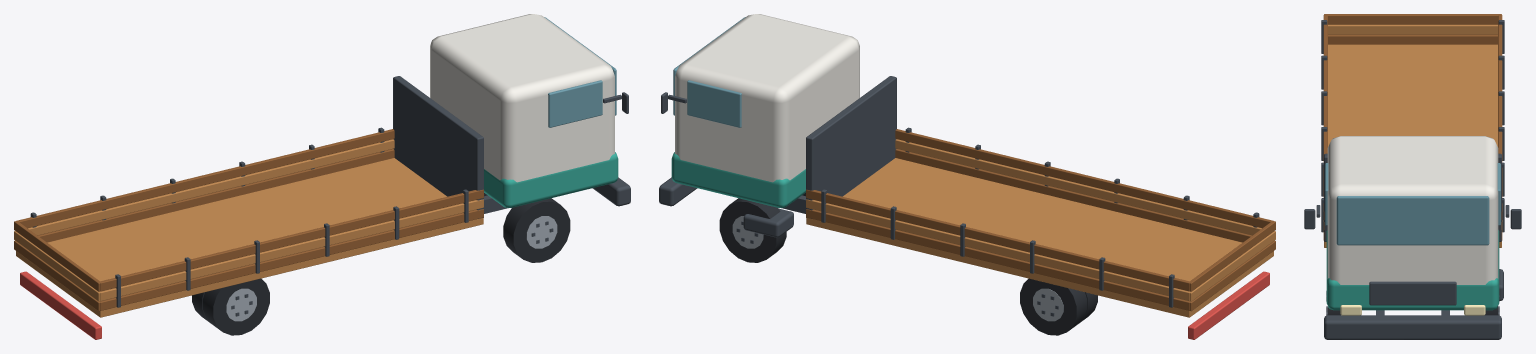
The model's file is caminhao_carroceria.glb.
The picture shows the model from 3 angles, left to right: view 1: azimuth 30°, elevation 25°; view 2: azimuth 150°, elevation 25°; view 3: azimuth 270°, elevation 25°; orthographic projection. The views are drawn at different scales.
Visible parts, largest first — view 1: tabua_lateral (×6), assoalho, corpo, protetor_cabine, pneu (×2), faixa_cabine, tabua_traseira (×3), vidro_porta, aro (×2), para_choque_traseiro, para_choque; view 2: tabua_lateral (×6), assoalho, corpo, protetor_cabine, pneu (×2), faixa_cabine, tabua_traseira (×3), vidro_porta, para_choque_traseiro, aro (×2), tanque, para_choque; view 3: corpo, assoalho, para_brisa, tabua_traseira (×3), para_choque, faixa_cabine, grade, tabua_lateral (×2), retrovisor (×2), farol (×2), vidro_porta (×2), protetor_cabine.
Part boxes in pixels (box(x1,y1,x2,y2)): tabua_lateral (×6): box(16, 129, 483, 310); assoalho: box(16, 158, 483, 317); corpo: box(430, 14, 614, 182); protetor_cabine: box(393, 76, 483, 218); pneu (×2): box(203, 198, 570, 335); faixa_cabine: box(484, 152, 618, 207); tabua_traseira (×3): box(14, 221, 100, 311); vidro_porta: box(548, 80, 602, 127); aro (×2): box(226, 216, 557, 321); para_choque_traseiro: box(20, 271, 101, 339); para_choque: box(592, 177, 630, 206); tabua_lateral (×6): box(806, 129, 1273, 310); assoalho: box(806, 158, 1273, 317); corpo: box(675, 14, 859, 182); protetor_cabine: box(806, 76, 896, 218); pneu (×2): box(719, 198, 1086, 335); faixa_cabine: box(671, 152, 805, 207); tabua_traseira (×3): box(1189, 221, 1275, 311); vidro_porta: box(687, 80, 741, 127); para_choque_traseiro: box(1188, 271, 1269, 339); aro (×2): box(732, 216, 1063, 321); tanque: box(743, 208, 793, 237); para_choque: box(659, 177, 697, 206); corpo: box(1327, 136, 1498, 284); assoalho: box(1324, 44, 1501, 247); para_brisa: box(1336, 196, 1489, 245); tabua_traseira (×3): box(1324, 14, 1501, 44); para_choque: box(1324, 315, 1501, 339); faixa_cabine: box(1326, 230, 1499, 310); grade: box(1369, 281, 1456, 305); tabua_lateral (×2): box(1323, 15, 1502, 219); retrovisor (×2): box(1304, 209, 1521, 229); farol (×2): box(1340, 305, 1485, 315); vidro_porta (×2): box(1325, 163, 1500, 225); protetor_cabine: box(1324, 153, 1501, 241).
Size of the model in its own units: 8.9 by 2.82 by 2.99.
